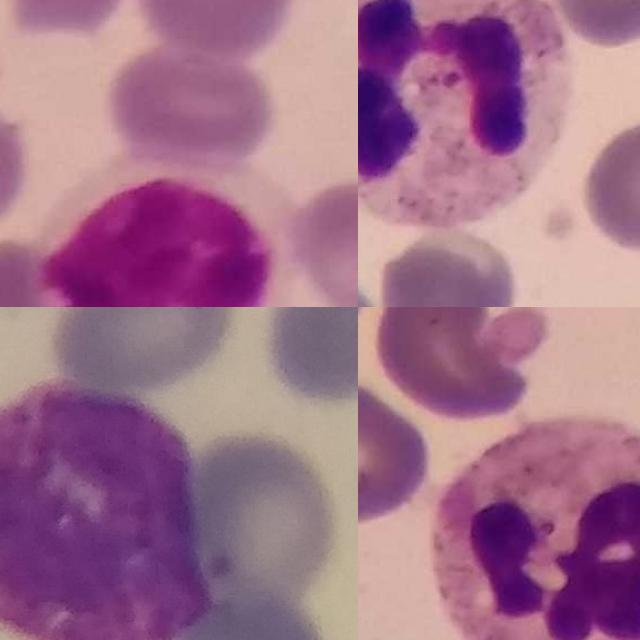Basophil: (0, 384, 209, 640)
Lymphocyte: (47, 151, 305, 307)
Neutrophil: (358, 0, 573, 222), (433, 418, 640, 640)
